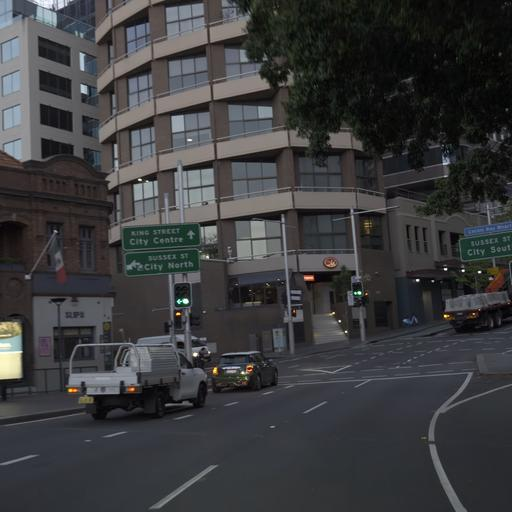Street light: (331, 204, 399, 342), (135, 175, 177, 336), (250, 213, 296, 354), (330, 213, 367, 342), (48, 296, 66, 391)
